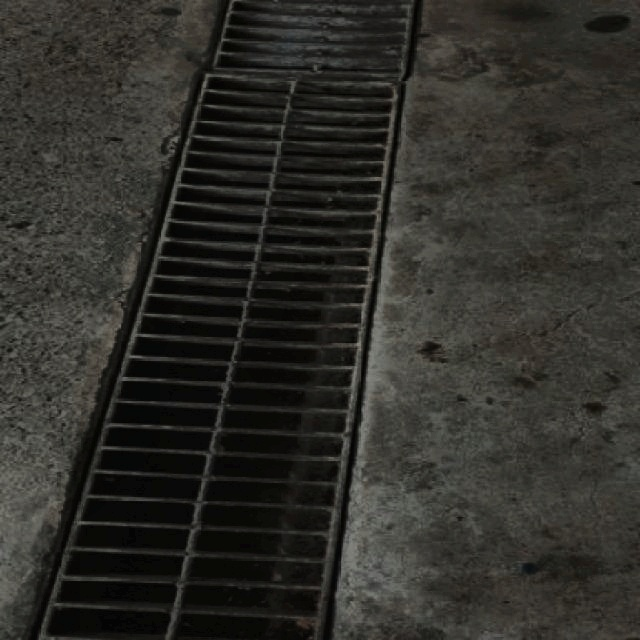Drain Hole: (128, 50, 438, 436)
